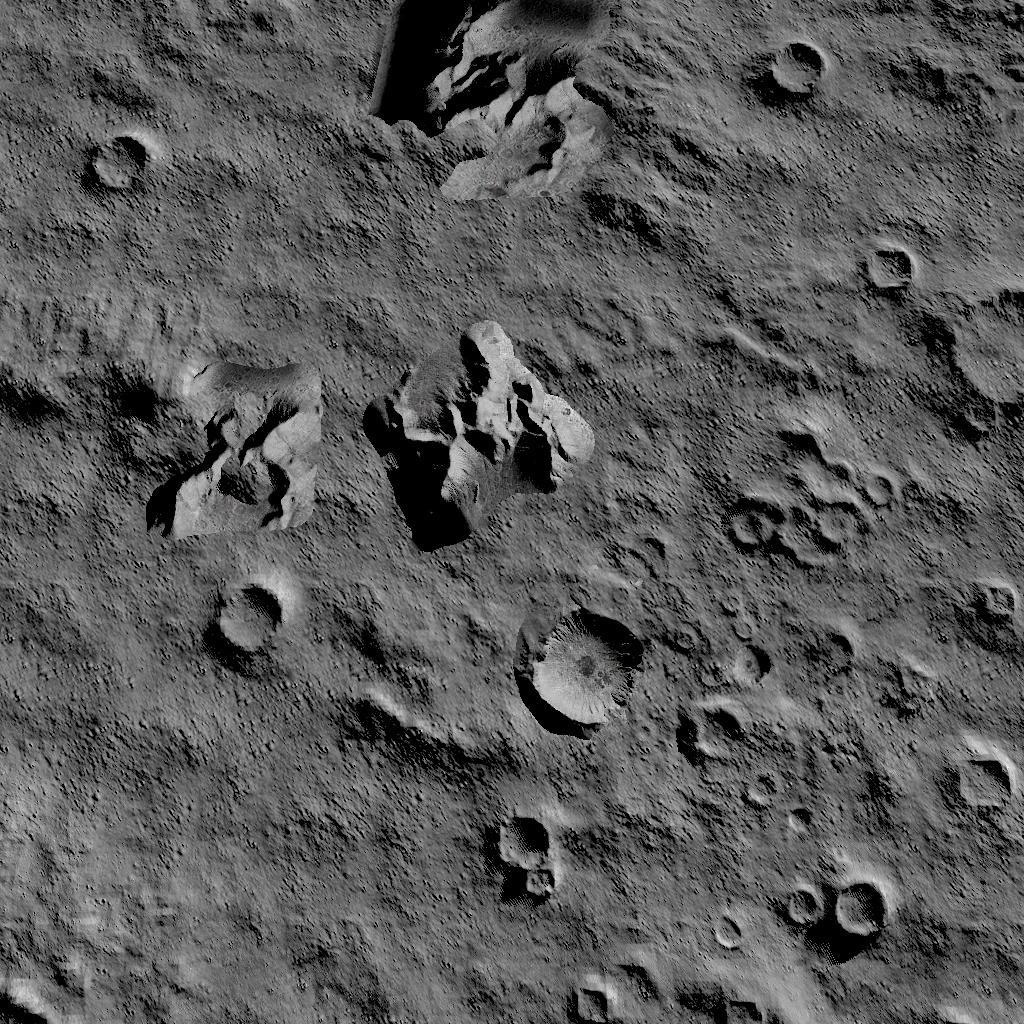Boulders: (0, 290, 328, 568), (366, 3, 628, 229), (360, 326, 602, 566), (863, 0, 1024, 165), (333, 692, 510, 791)
Crater: (711, 424, 894, 582), (516, 614, 656, 750), (920, 290, 1024, 450), (562, 972, 834, 1024), (770, 884, 914, 966), (203, 586, 291, 686), (746, 31, 842, 117), (478, 818, 560, 918), (940, 754, 1018, 844), (674, 704, 756, 786), (84, 134, 160, 214), (845, 246, 910, 312), (954, 576, 1016, 638), (725, 644, 777, 698)
Plan surface: (2, 578, 192, 1024), (204, 805, 457, 1024)
